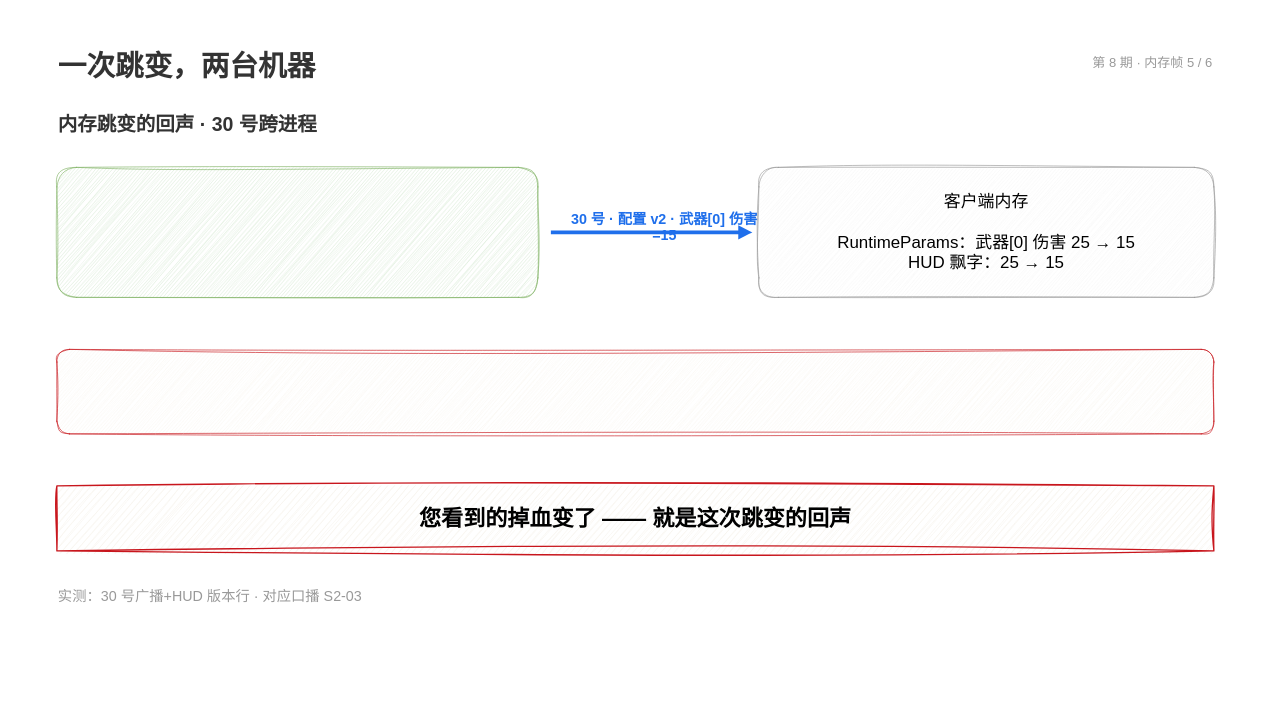
Some shapes in this 1270 by 724 pixel diagram are drawn without their labels. Here are the shapes that lost their labels. From the top down, the box of each, then its label:
(56, 167, 538, 297): 服务器内存 cfg_ ──▶ [ v2 表 ]（伤害 15） weaponTable_ = 15
(56, 349, 1214, 434): 服务器内存里的一次指针跳变，变成您屏幕上掉血的变化—— 改表不是黑盒：每一跳都有回声，回声可对账（日志 → MySQL → HUD 版本号）
